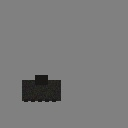armoured_vehicle: (22, 80, 61, 101)
